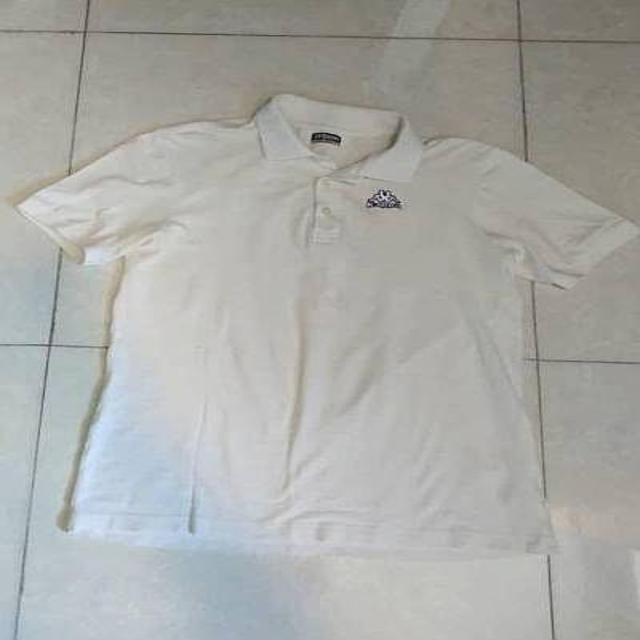T_SHIRT: (21, 82, 632, 558)
